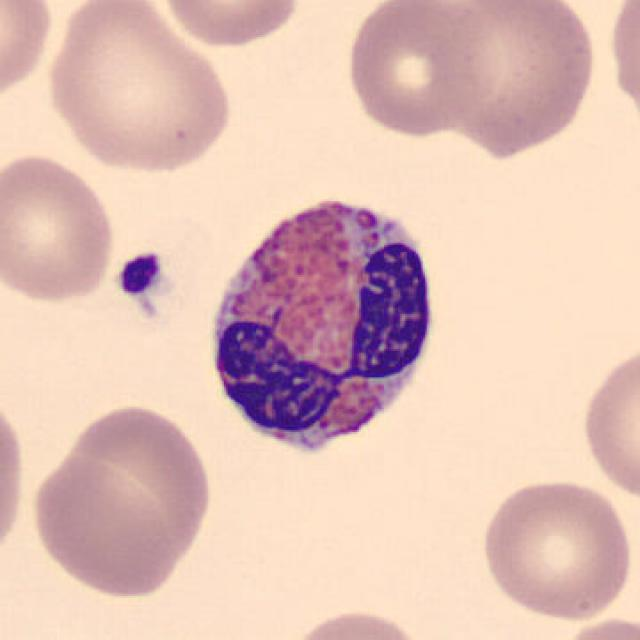Eosinophil: (196, 173, 450, 476)
Platelets: (114, 249, 167, 298)
RBC: (23, 414, 213, 603), (39, 2, 238, 178), (428, 0, 600, 160), (474, 473, 634, 624), (341, 0, 497, 139), (0, 150, 121, 307), (576, 339, 638, 506), (154, 0, 305, 49), (0, 0, 57, 111), (281, 604, 432, 640), (0, 388, 30, 569), (604, 0, 640, 134), (551, 613, 638, 640)
